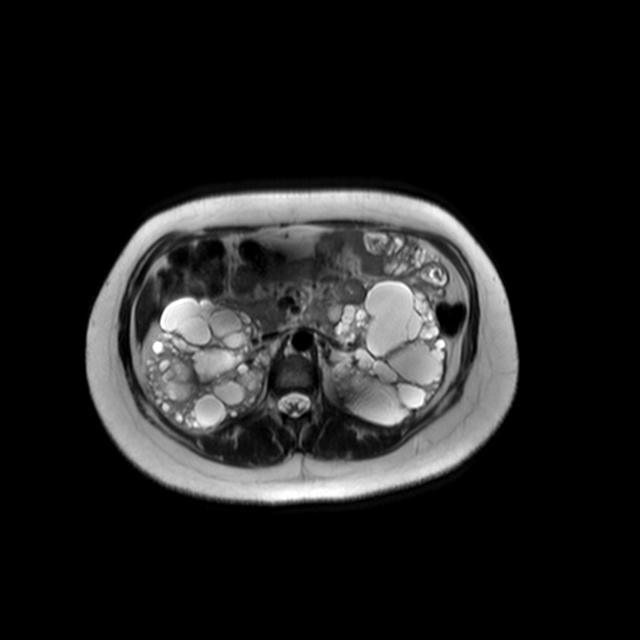sag: (141, 295, 272, 434)
sol: (328, 280, 448, 426)
